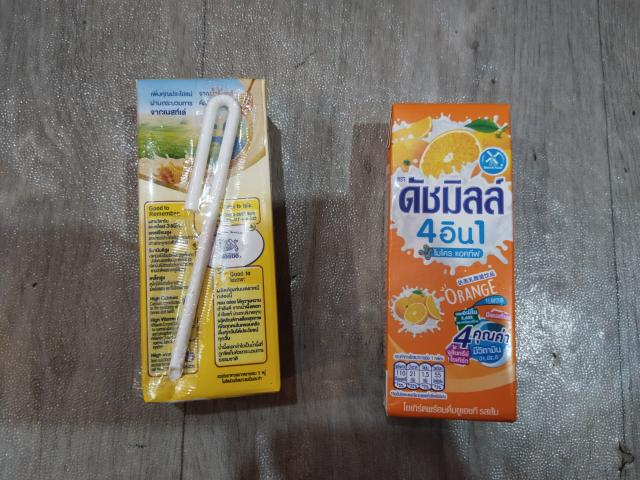drink_box: (380, 100, 537, 433), (134, 73, 290, 408)
